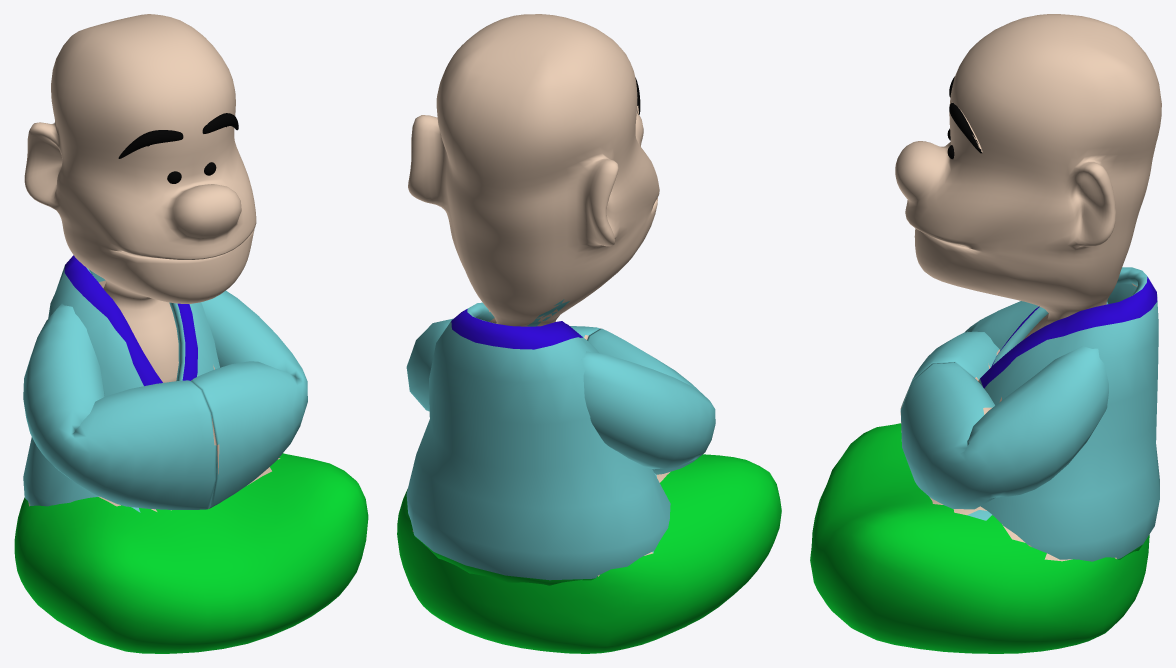
Rendered from bud.fbx.
3 views of the same model, side by side, from view 1: azimuth 30°, elevation 25°; view 2: azimuth 150°, elevation 25°; view 3: azimuth 270°, elevation 25° (orthographic). The views are drawn at different scales.
Visible parts, largest first — view 1: tw_buddhist_monk1; view 2: tw_buddhist_monk1; view 3: tw_buddhist_monk1.
Part boxes in pixels (bbox=[...]): tw_buddhist_monk1: bbox=[14, 14, 368, 653]; tw_buddhist_monk1: bbox=[397, 14, 781, 653]; tw_buddhist_monk1: bbox=[810, 14, 1161, 653].
Size of the model in its own units: 0.3452 by 0.6161 by 0.3344.
